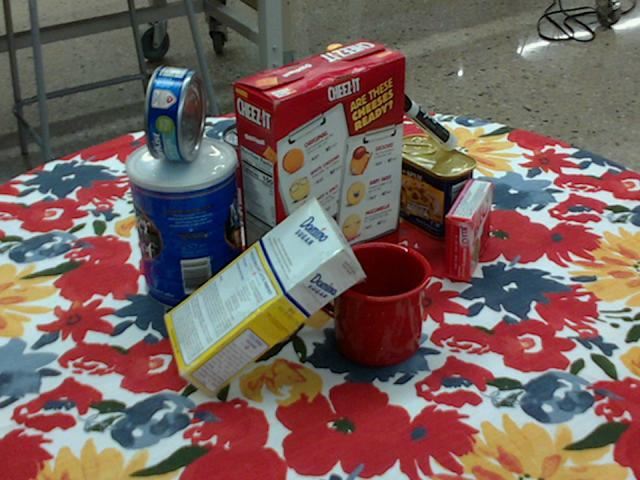cracker_box: (231, 39, 407, 303)
gelatin_box: (445, 178, 495, 282)
large_marker: (388, 86, 459, 149)
master_chef_can: (126, 135, 243, 313)
mug: (312, 239, 432, 366)
mustard_bottle: (305, 43, 377, 222)
potted_meat_can: (389, 134, 479, 239)
sugar_box: (163, 196, 365, 401)
tomato_soup_can: (223, 119, 289, 228)
tuna_fish_can: (143, 63, 204, 159)
